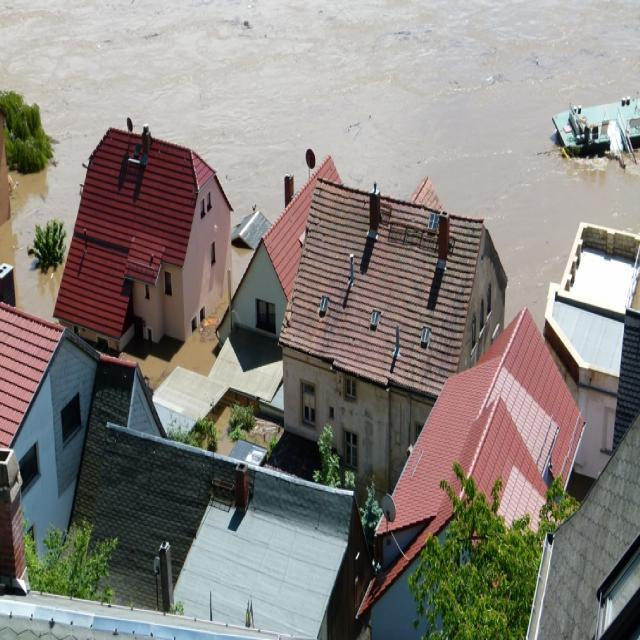flood: (0, 0, 640, 322)
house: (261, 157, 515, 504), (374, 308, 590, 538), (58, 126, 244, 367), (160, 454, 360, 636), (3, 288, 99, 582), (548, 220, 640, 406), (551, 96, 634, 164)
